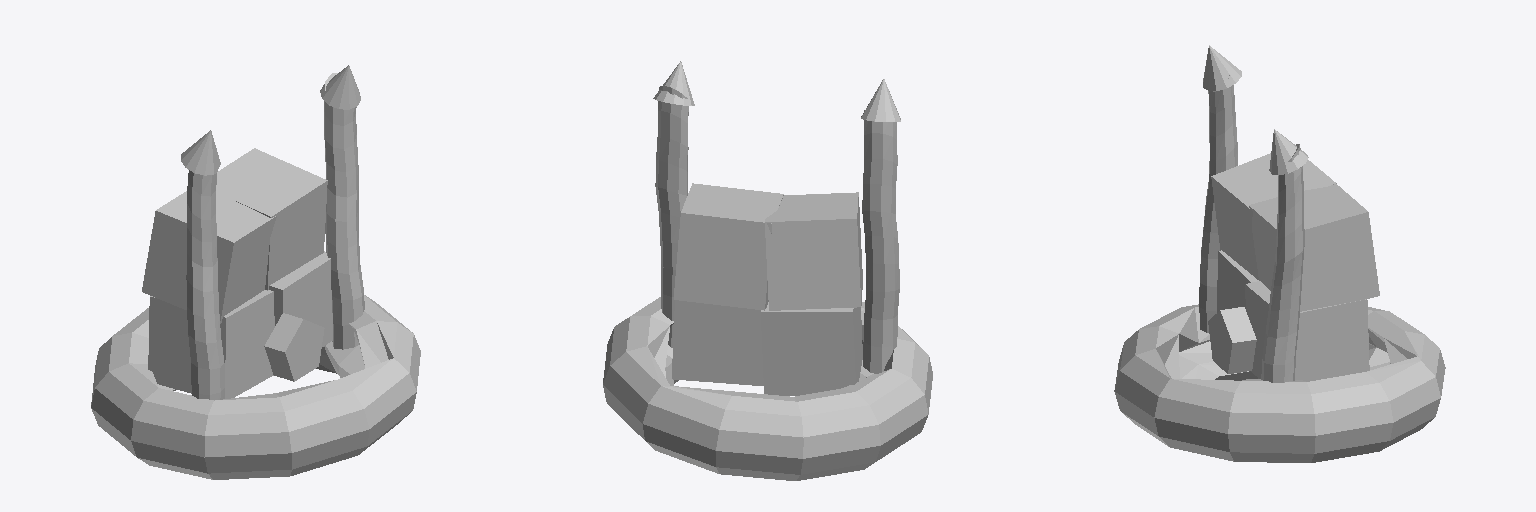
Rendered from castle_model.obj.
The picture shows the model from 3 angles: view 1: azimuth 30°, elevation 25°; view 2: azimuth 150°, elevation 25°; view 3: azimuth 270°, elevation 25°; orthographic projection.
Parts seen in each view (by area): view 1: group[number redacted], group[number redacted], group[number redacted], group[number redacted], group[number redacted], group[number redacted], group[number redacted], group[number redacted], group[number redacted], group[number redacted]; view 2: group[number redacted], group[number redacted], group[number redacted], group[number redacted], group[number redacted], group[number redacted], group[number redacted], group[number redacted], group[number redacted]; view 3: group[number redacted], group[number redacted], group[number redacted], group[number redacted], group[number redacted], group[number redacted], group[number redacted], group[number redacted], group[number redacted], group[number redacted].
Boxes of the visible parts, <box> form: group[number redacted]: <box>91,295,420,479</box>; group[number redacted]: <box>142,188,276,323</box>; group[number redacted]: <box>216,148,327,290</box>; group[number redacted]: <box>148,290,274,398</box>; group[number redacted]: <box>324,73,364,349</box>; group[number redacted]: <box>186,170,224,399</box>; group[number redacted]: <box>269,251,332,346</box>; group[number redacted]: <box>264,313,324,381</box>; group[number redacted]: <box>320,65,360,109</box>; group[number redacted]: <box>181,130,220,175</box>; group[number redacted]: <box>603,297,932,480</box>; group[number redacted]: <box>674,183,783,310</box>; group[number redacted]: <box>765,192,862,310</box>; group[number redacted]: <box>761,302,862,395</box>; group[number redacted]: <box>862,110,899,373</box>; group[number redacted]: <box>672,300,767,385</box>; group[number redacted]: <box>655,85,688,347</box>; group[number redacted]: <box>861,79,900,121</box>; group[number redacted]: <box>653,61,694,105</box>; group[number redacted]: <box>1114,304,1445,462</box>; group[number redacted]: <box>1249,184,1379,311</box>; group[number redacted]: <box>1245,281,1369,379</box>; group[number redacted]: <box>1261,144,1304,382</box>; group[number redacted]: <box>1211,153,1336,279</box>; group[number redacted]: <box>1199,75,1237,332</box>; group[number redacted]: <box>1208,307,1256,373</box>; group[number redacted]: <box>1217,250,1258,312</box>; group[number redacted]: <box>1203,45,1241,90</box>; group[number redacted]: <box>1269,129,1308,175</box>.
Size of the model in its own units: 0.6288 by 0.7224 by 0.6313.